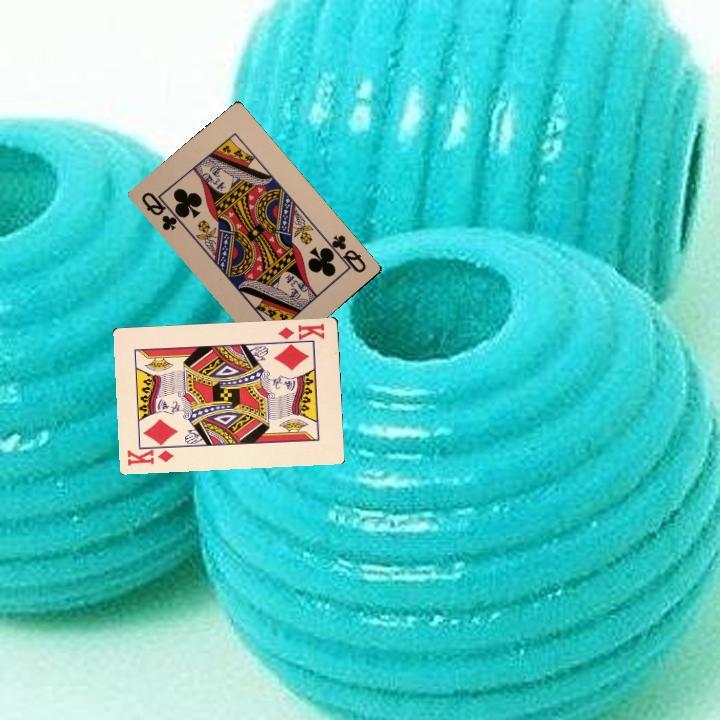Kd: (123, 442, 180, 468), (276, 319, 327, 348)
Qc: (137, 188, 185, 233), (322, 231, 369, 275)
